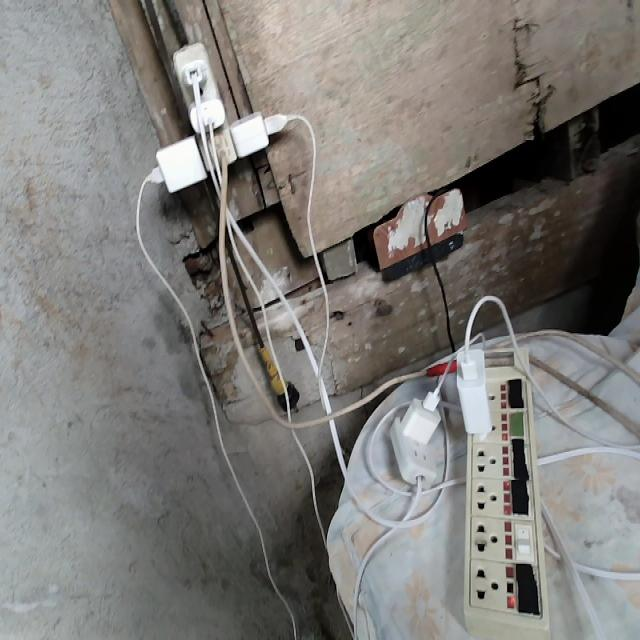-: (139, 39, 278, 192)
